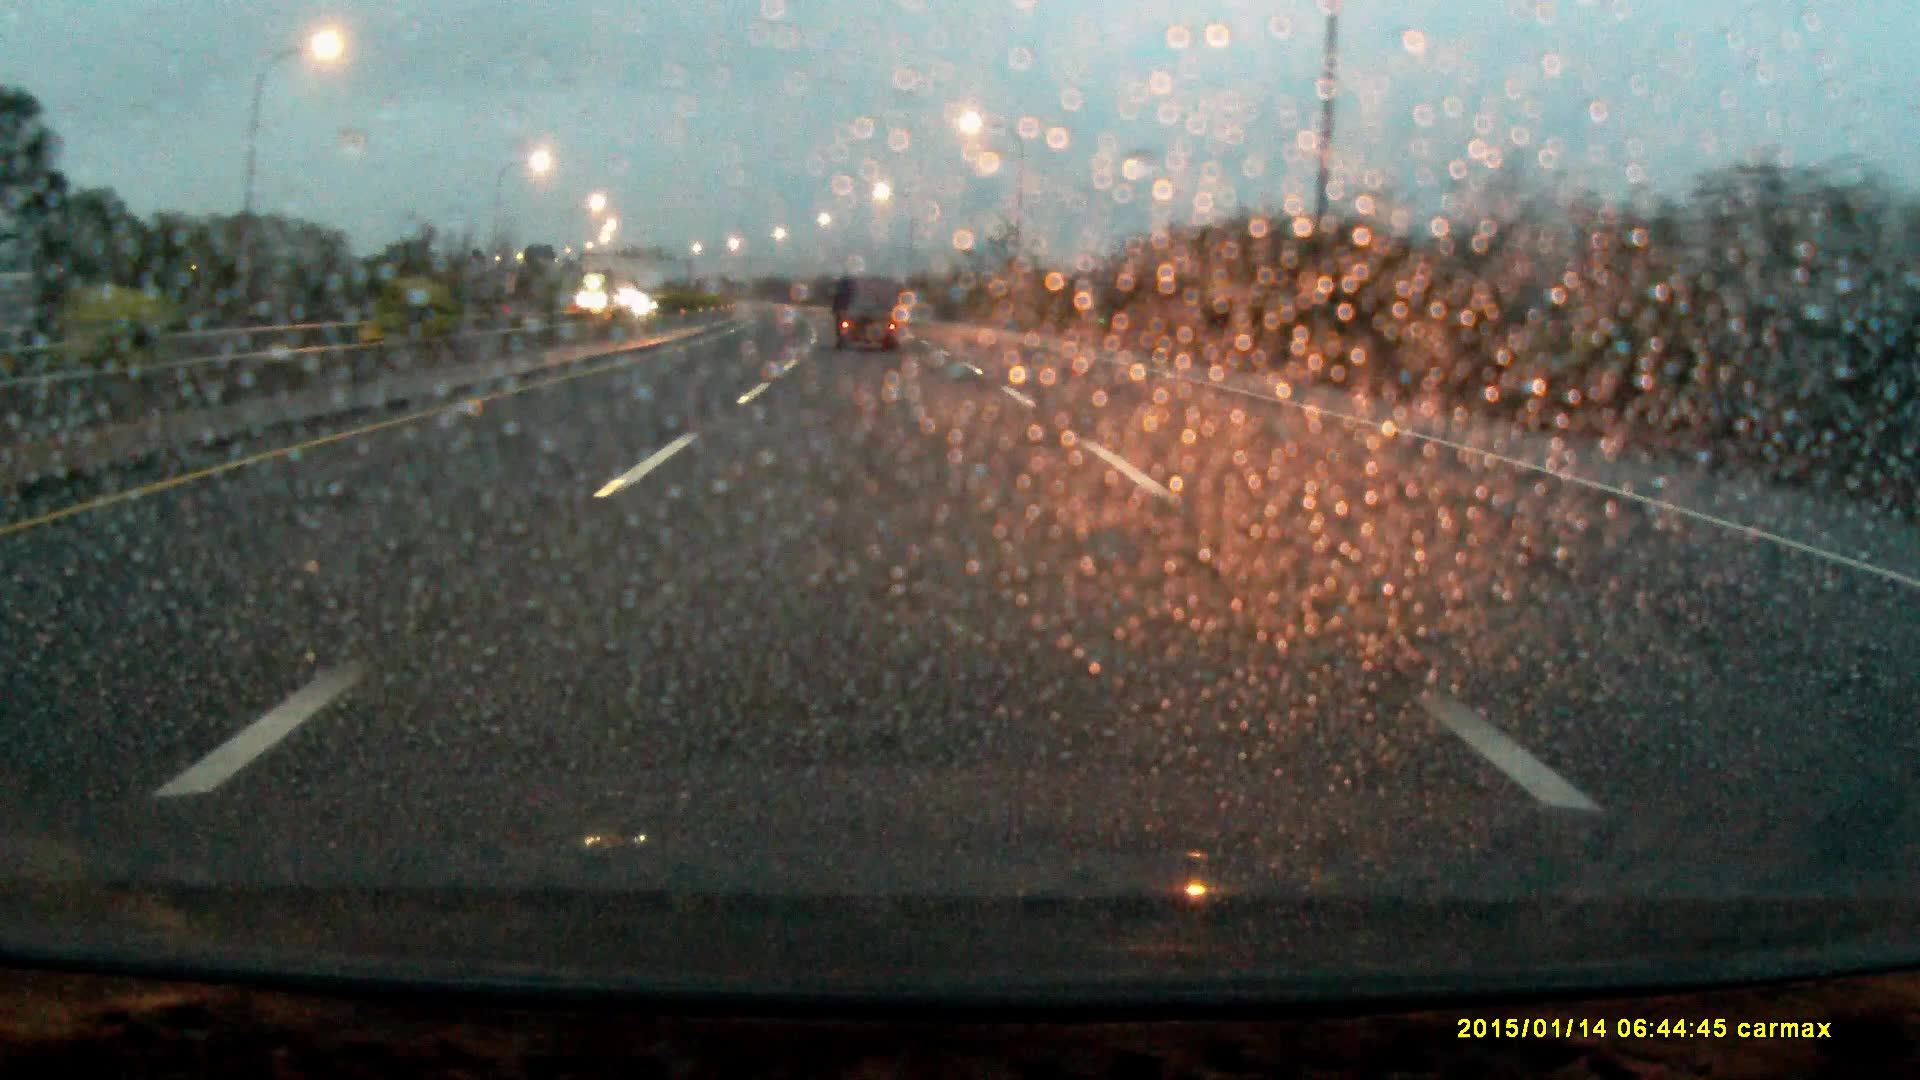vehicle: (832, 276, 902, 355)
